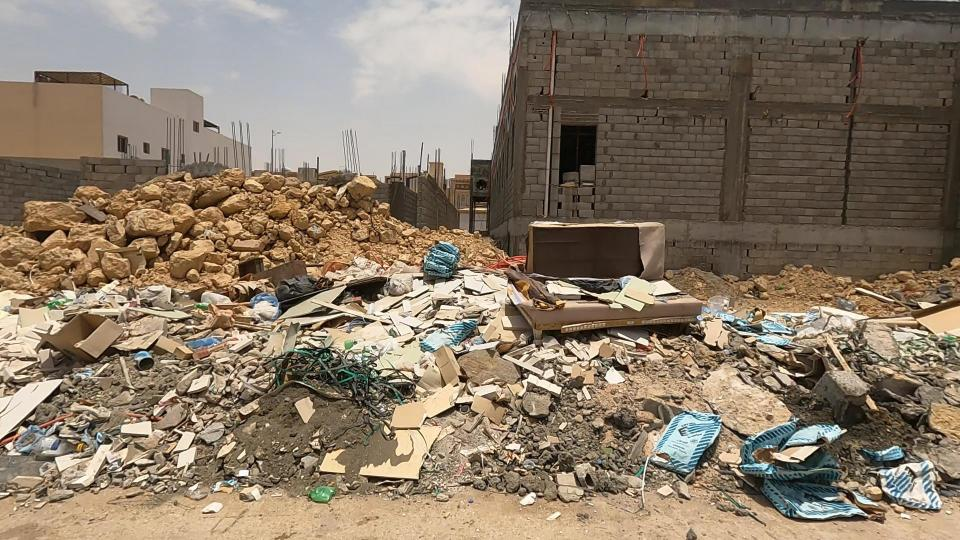GARBAGE: (417, 166, 786, 415), (105, 194, 401, 496), (613, 234, 945, 432), (627, 344, 960, 540), (229, 192, 482, 445), (231, 332, 531, 540), (51, 326, 327, 540), (6, 210, 241, 461), (0, 307, 202, 540), (359, 184, 548, 426), (429, 289, 641, 468), (577, 357, 789, 535), (227, 429, 400, 535), (0, 225, 95, 409)
